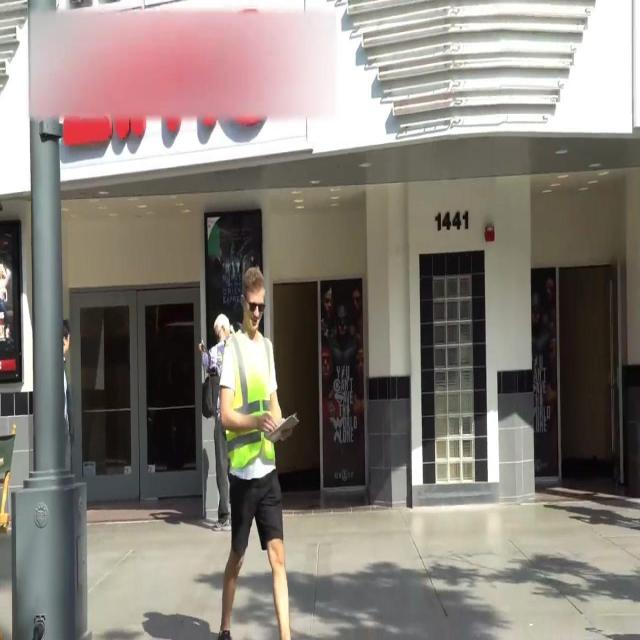Vest: (225, 330, 277, 469)
